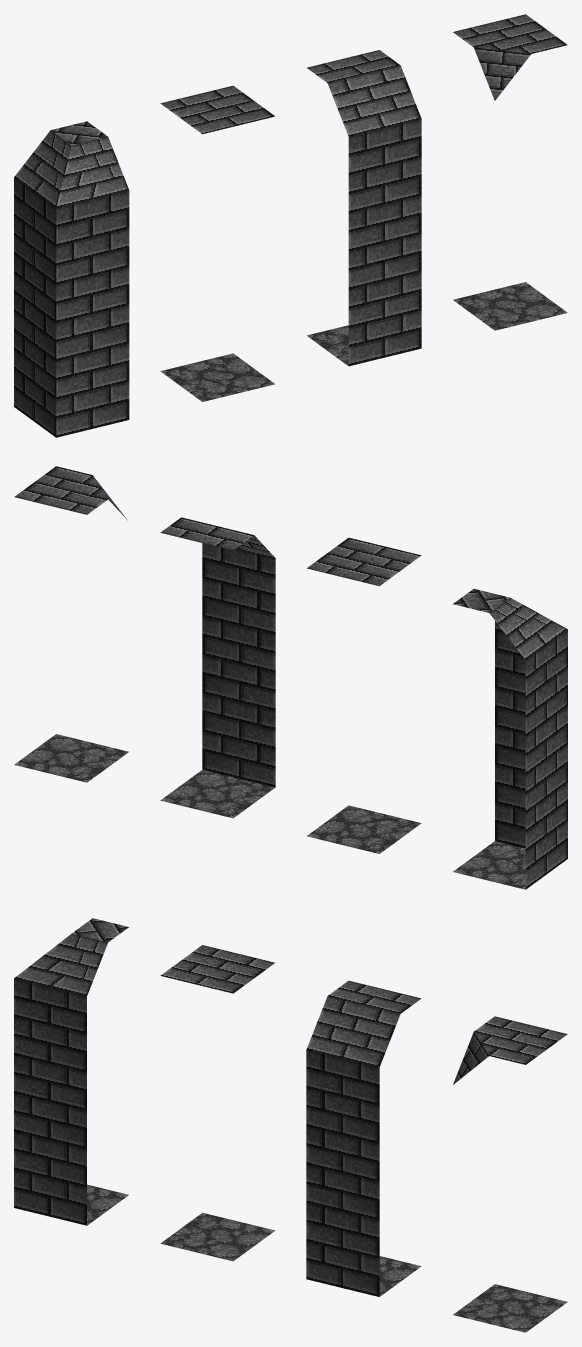
The model's file is f1tiles.glb.
3 views of the same model, one above another, from view 1: azimuth 30°, elevation 25°; view 2: azimuth 150°, elevation 25°; view 3: azimuth 330°, elevation 25° (orthographic).
Parts seen in each view (by area): view 1: corner-in-col, wall-col, corner-out-col, floor-col; view 2: wall-col, corner-in-col, floor-col, corner-out-col; view 3: wall-col, corner-in-col, corner-out-col, floor-col.
Part boxes in pixels (x1=…): corner-in-col: x1=14, y1=121, x2=129, y2=437; wall-col: x1=307, y1=50, x2=421, y2=366; corner-out-col: x1=453, y1=14, x2=567, y2=330; floor-col: x1=160, y1=85, x2=274, y2=401; wall-col: x1=160, y1=517, x2=275, y2=818; corner-in-col: x1=453, y1=589, x2=567, y2=889; floor-col: x1=307, y1=537, x2=421, y2=853; corner-out-col: x1=14, y1=466, x2=128, y2=782; wall-col: x1=306, y1=980, x2=421, y2=1296; corner-in-col: x1=14, y1=918, x2=128, y2=1225; corner-out-col: x1=453, y1=1016, x2=567, y2=1332; floor-col: x1=160, y1=945, x2=275, y2=1261.
Bounding box in the file's own units: 7 × 3.5 × 1.
Materials: 2 (2 with a texture image).
